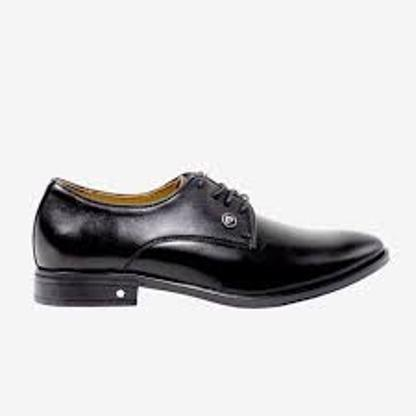not trash: (31, 177, 389, 309)
